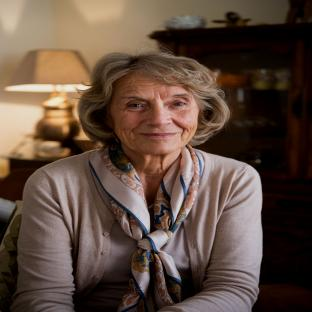Human: (11, 50, 262, 312)
